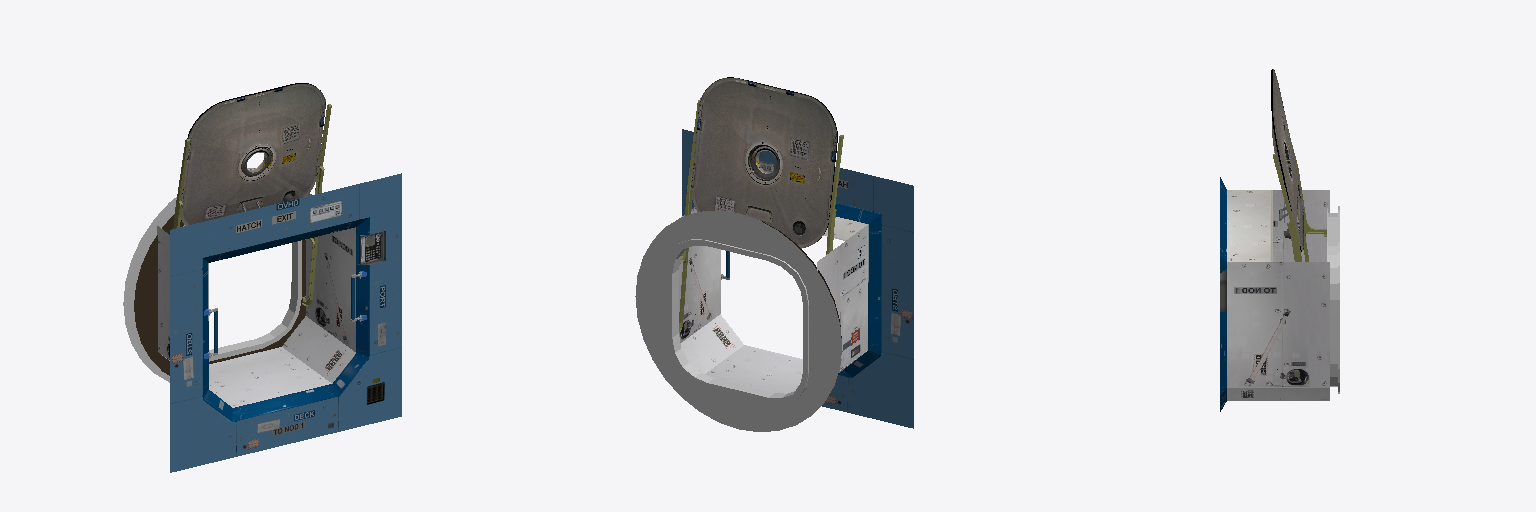
The picture shows the model from 3 angles: view 1: azimuth 30°, elevation 25°; view 2: azimuth 150°, elevation 25°; view 3: azimuth 270°, elevation 25°; orthographic projection.
Size of the model in its own units: 2.26 by 3.1 by 1.02.
Materials: 11 (2 with a texture image).